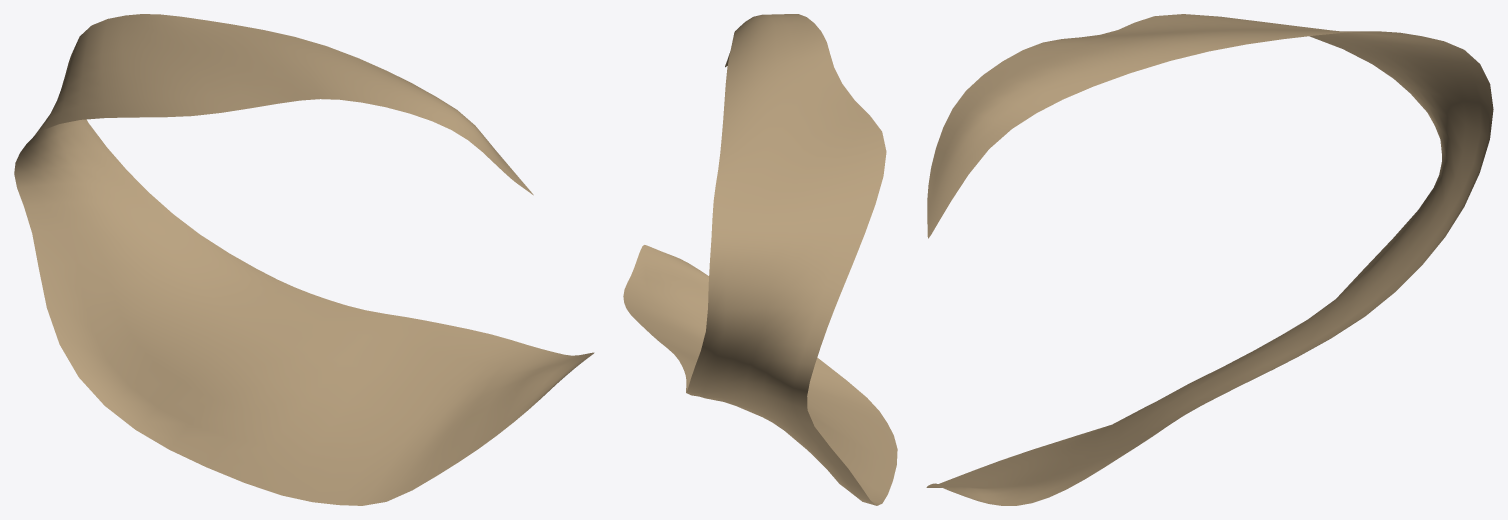
The picture shows the model from 3 angles, left to right: view 1: azimuth 30°, elevation 25°; view 2: azimuth 150°, elevation 25°; view 3: azimuth 270°, elevation 25°; orthographic projection. The views are drawn at different scales.
Parts seen in each view (by area): view 1: 左侧关节囊系带; view 2: 左侧关节囊系带; view 3: 左侧关节囊系带.
Part boxes in pixels (bbox=[...]): 左侧关节囊系带: bbox=[14, 14, 594, 505]; 左侧关节囊系带: bbox=[623, 14, 897, 505]; 左侧关节囊系带: bbox=[926, 14, 1493, 505].
Bounding box in the file's own units: 0.0547 × 0.0541 × 0.0613.
